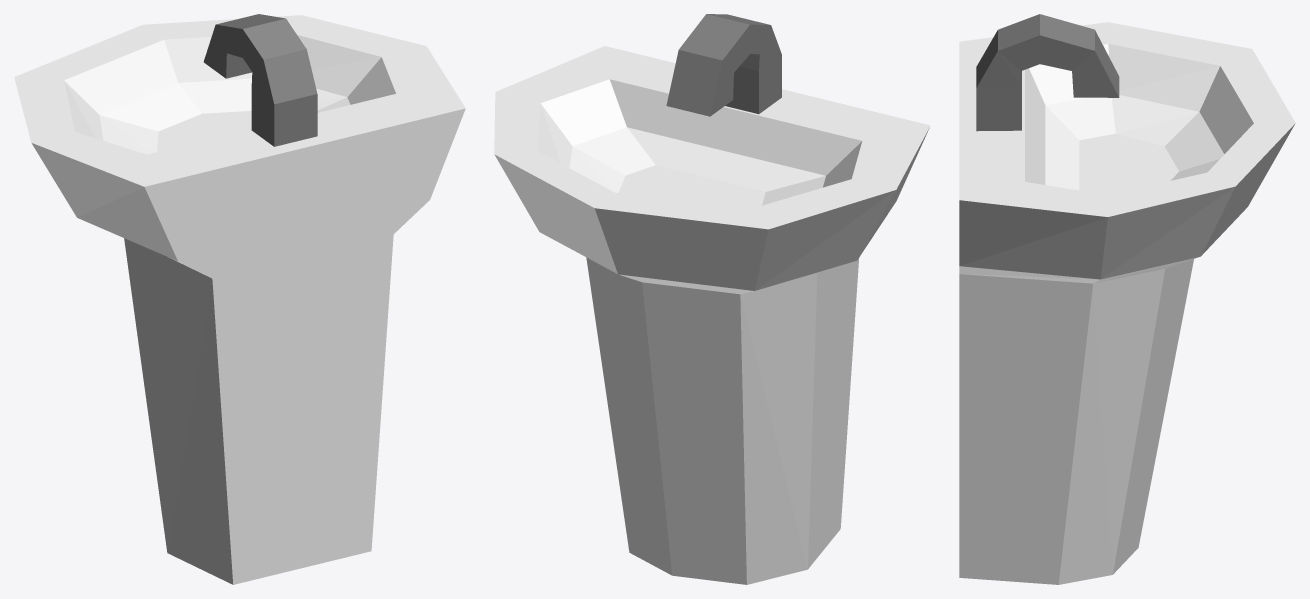
File: allas1.FBX
The picture shows the model from 3 angles, left to right: view 1: azimuth 30°, elevation 25°; view 2: azimuth 150°, elevation 25°; view 3: azimuth 270°, elevation 25°; orthographic projection.
Visible parts, largest first — view 1: allas1; view 2: allas1; view 3: allas1.
Part boxes in pixels (box(x1,y1,x2,y2)): allas1: box(14, 14, 465, 584); allas1: box(494, 14, 930, 584); allas1: box(959, 14, 1295, 584).
Bounding box in the file's own units: 124 × 154 × 90.08.
